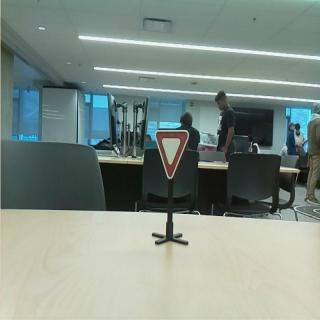sign_yield: (155, 129, 190, 181)
